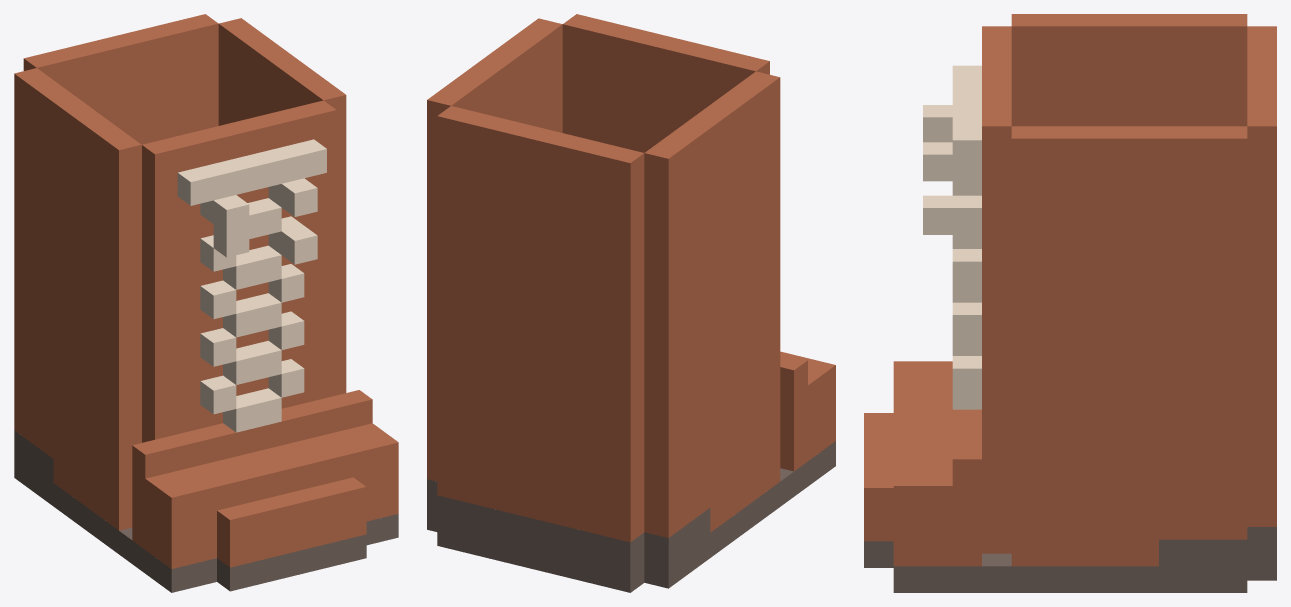
Rendered from angie-acc8.f5c957c2.glb.
3 views of the same model, side by side, from view 1: azimuth 30°, elevation 25°; view 2: azimuth 150°, elevation 25°; view 3: azimuth 270°, elevation 25° (orthographic). The views are drawn at different scales.
Visible parts, largest first — view 1: bota, cordones, suela; view 2: bota, suela; view 3: bota, suela, cordones.
Part boxes in pixels (bbox=[...]): bota: bbox=[14, 14, 398, 568]; cordones: bbox=[177, 139, 326, 432]; suela: bbox=[14, 430, 398, 592]; bota: bbox=[427, 14, 835, 542]; suela: bbox=[427, 441, 835, 592]; bota: bbox=[864, 14, 1276, 566]; suela: bbox=[864, 527, 1276, 592]; cordones: bbox=[923, 65, 981, 409].
Size of the model in its own units: 0.18 by 0.306 by 0.252.
